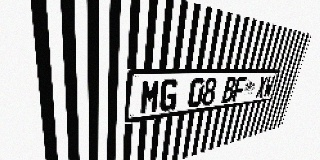0: (187, 78, 205, 108)
8: (201, 77, 218, 106)
B: (221, 77, 237, 103)
F: (232, 77, 247, 102)
G: (158, 79, 179, 112)
M: (139, 79, 161, 115)
W: (263, 76, 275, 97)
X: (255, 76, 268, 98)
